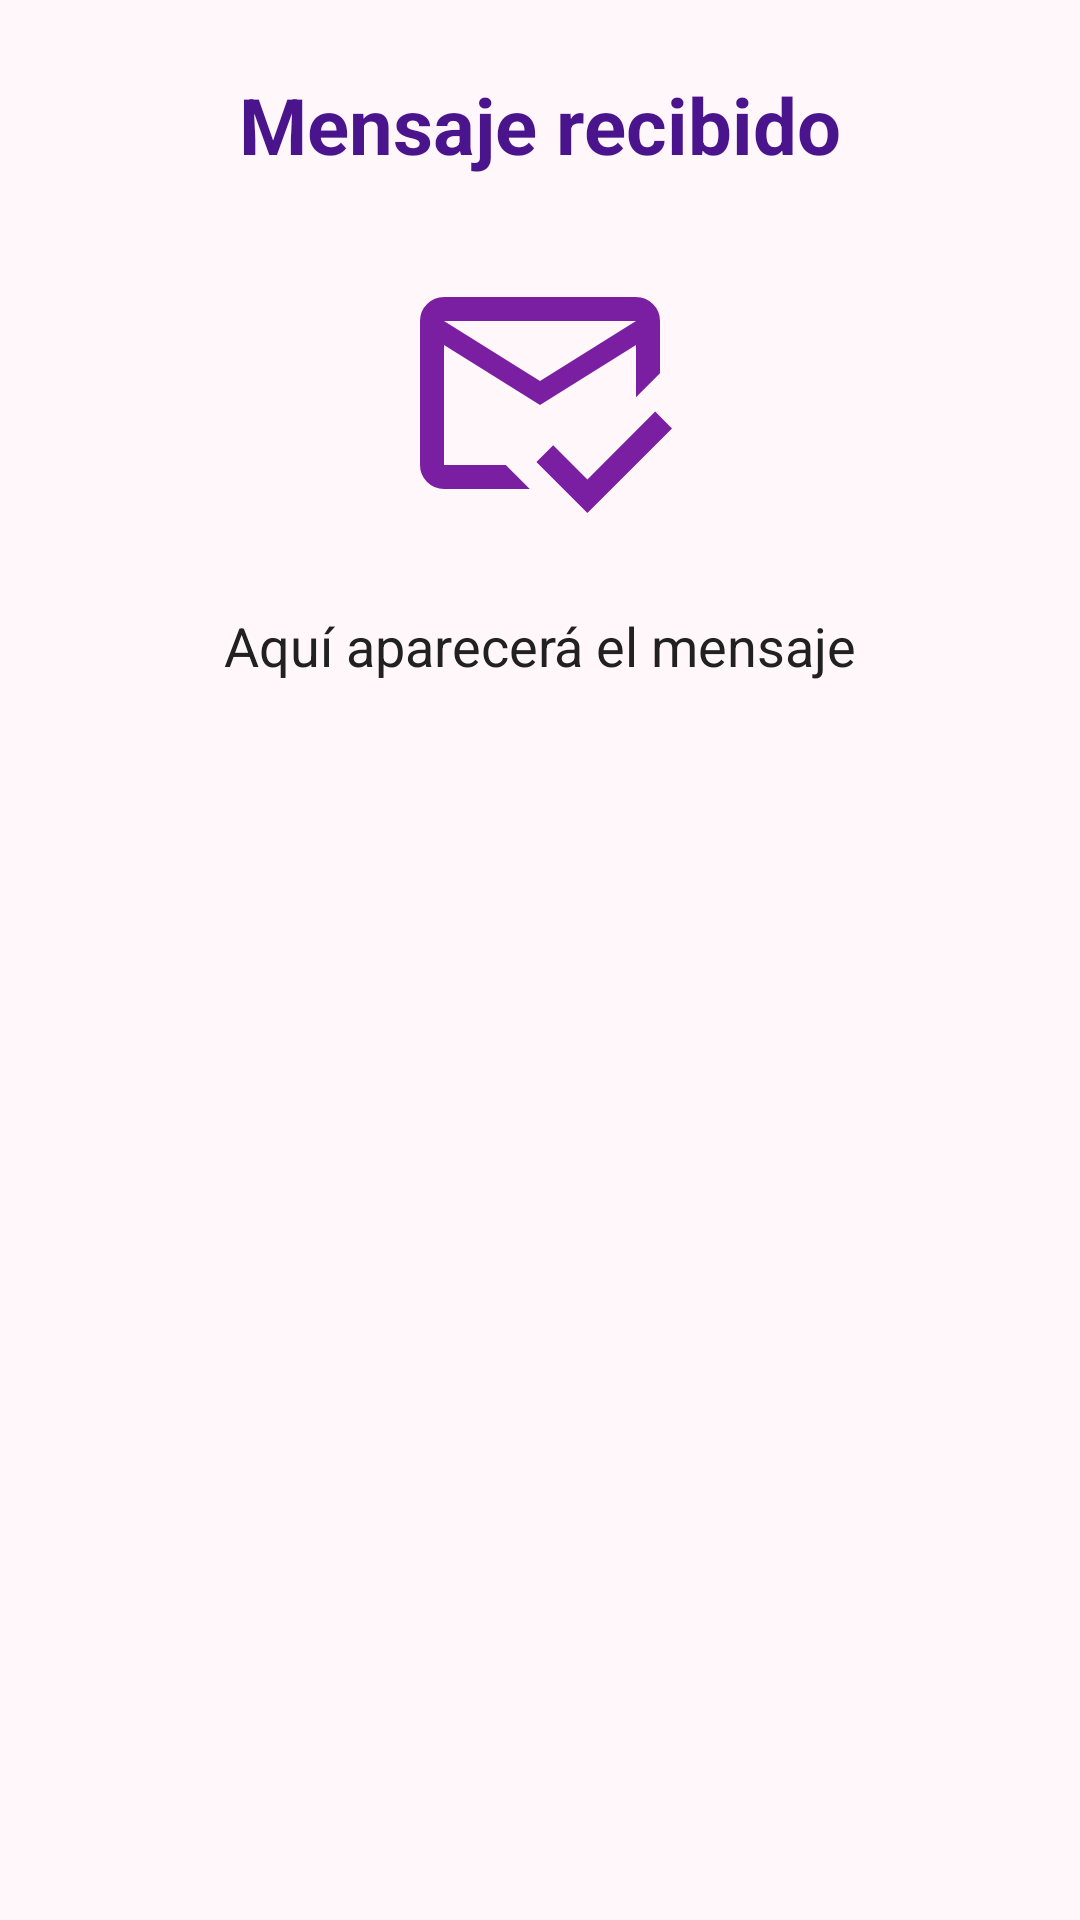

Where to tap for icons on this 1080*1920 app screen, as (x,y):
Icono de mensaje: (546,405)
